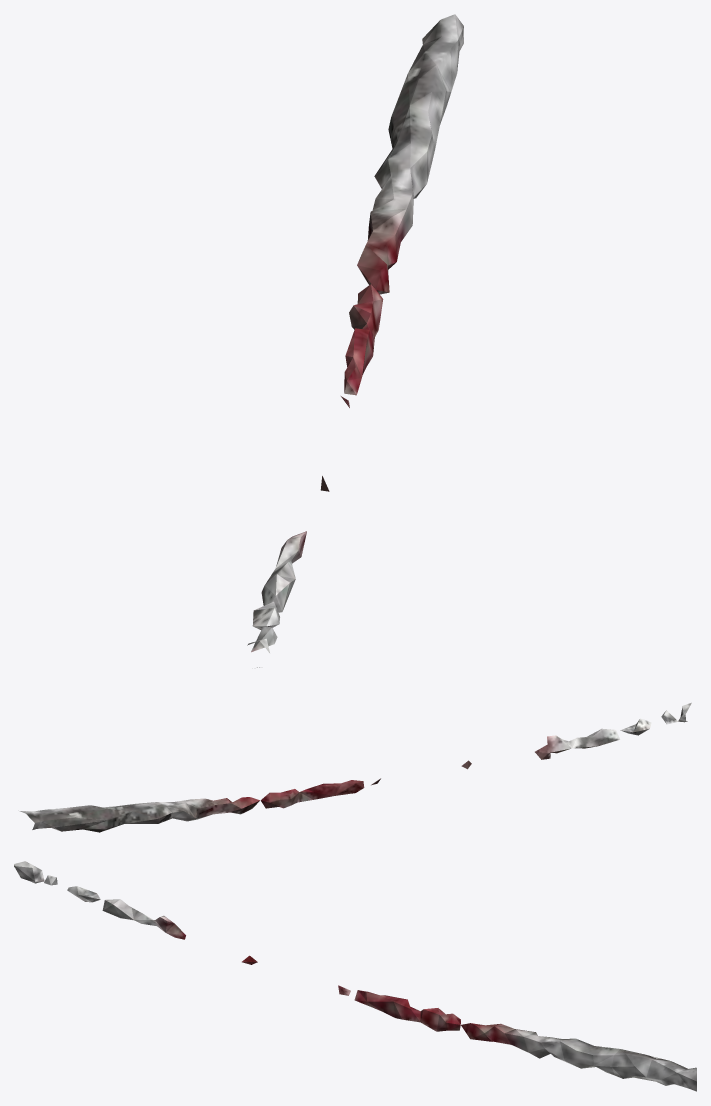
3 views of the same model, one above another, from view 1: azimuth 30°, elevation 25°; view 2: azimuth 150°, elevation 25°; view 3: azimuth 270°, elevation 25° (orthographic). The views are drawn at different scales.
Bounding box in the file's own units: 0.644 × 0.0645 × 0.8373.
Materials: 1 (1 with a texture image).
